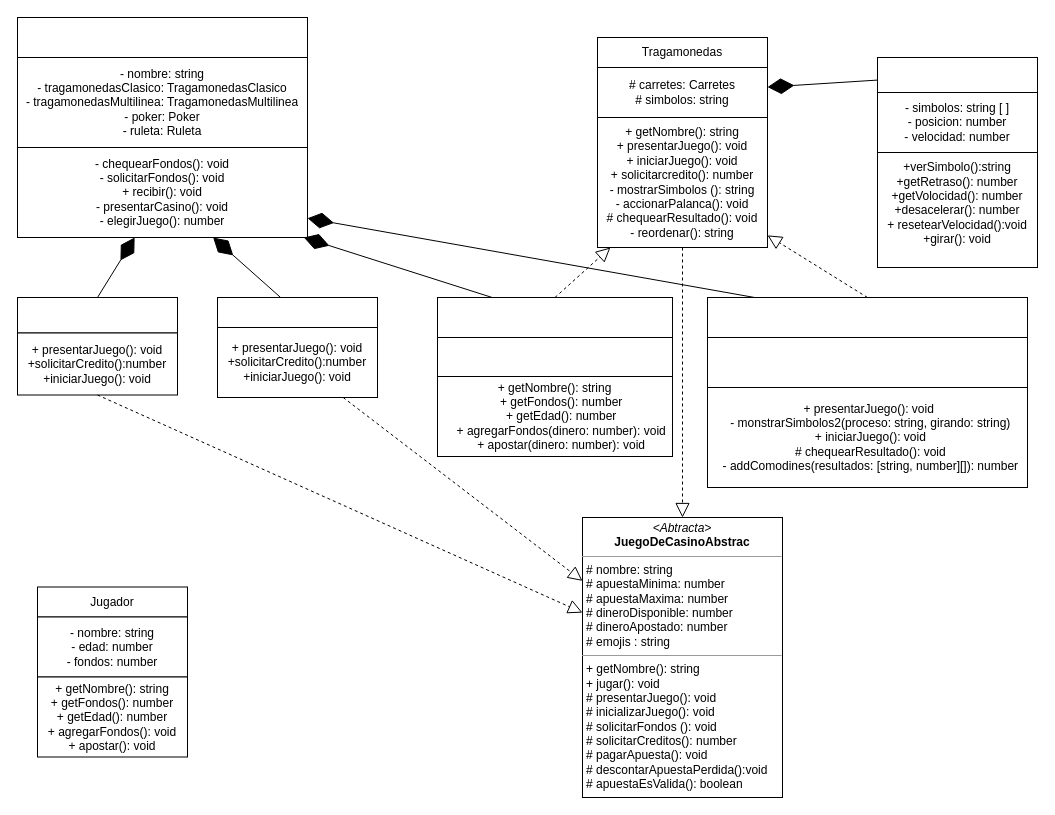
The diagram is 1055 pixels wide and 815 high, and some of its shapes have lost their labels. The box of each missing label's shape, as (x1, y1, x2, y2) in pixels:
- comodines: [string, string, (x: number) => number][]: (706, 336, 1028, 388)
- simbolosYapa: string[];: (436, 336, 672, 376)
Carrete: (876, 56, 1038, 92)
Casino: (16, 16, 308, 58)
Poker: (16, 296, 178, 333)
Ruleta: (216, 296, 378, 328)
TragamonedasClasico: (436, 296, 672, 338)
TragamonedasMultilinea: (706, 296, 1028, 338)
